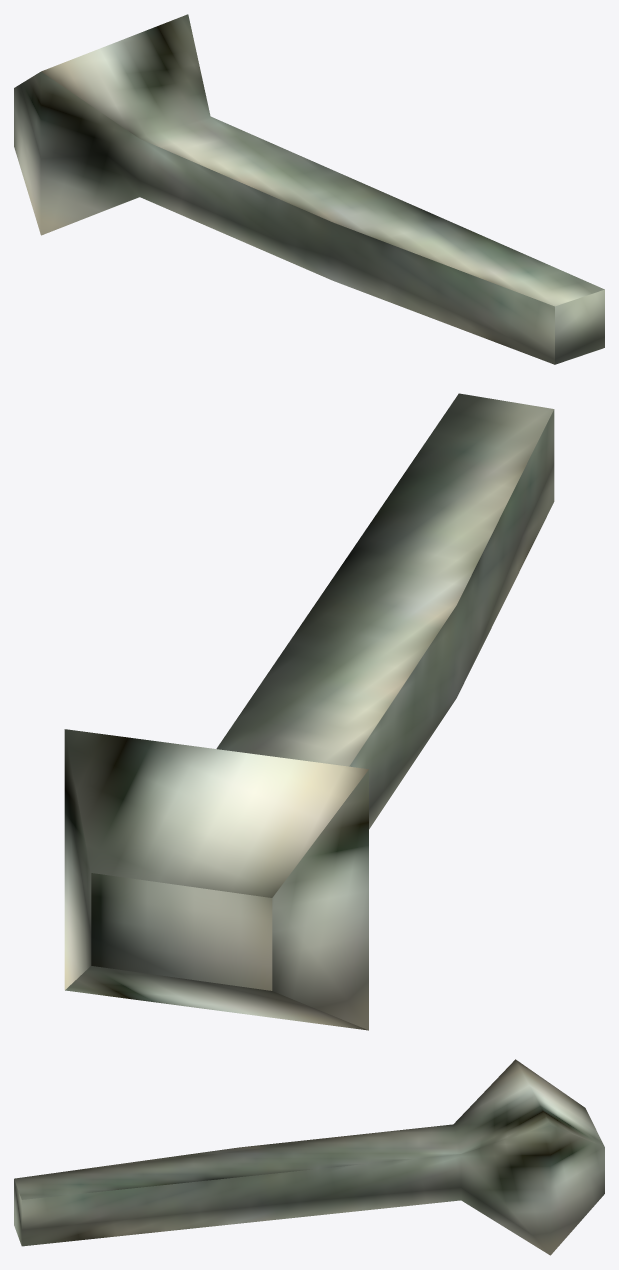
File: lichen-small-sepel.fbx
The picture shows the model from 3 angles, top to bottom: view 1: azimuth 30°, elevation 25°; view 2: azimuth 150°, elevation 25°; view 3: azimuth 270°, elevation 25°; orthographic projection. The views are drawn at different scales.
Parts seen in each view (by area): view 1: lychen_small_sepel; view 2: lychen_small_sepel; view 3: lychen_small_sepel.
Boxes of the visible parts, bbox=[...] form: lychen_small_sepel: bbox=[14, 14, 604, 364]; lychen_small_sepel: bbox=[64, 393, 554, 1030]; lychen_small_sepel: bbox=[14, 1059, 604, 1255].
Bounding box in the file's own units: 1.86 × 1.15 × 4.71.
